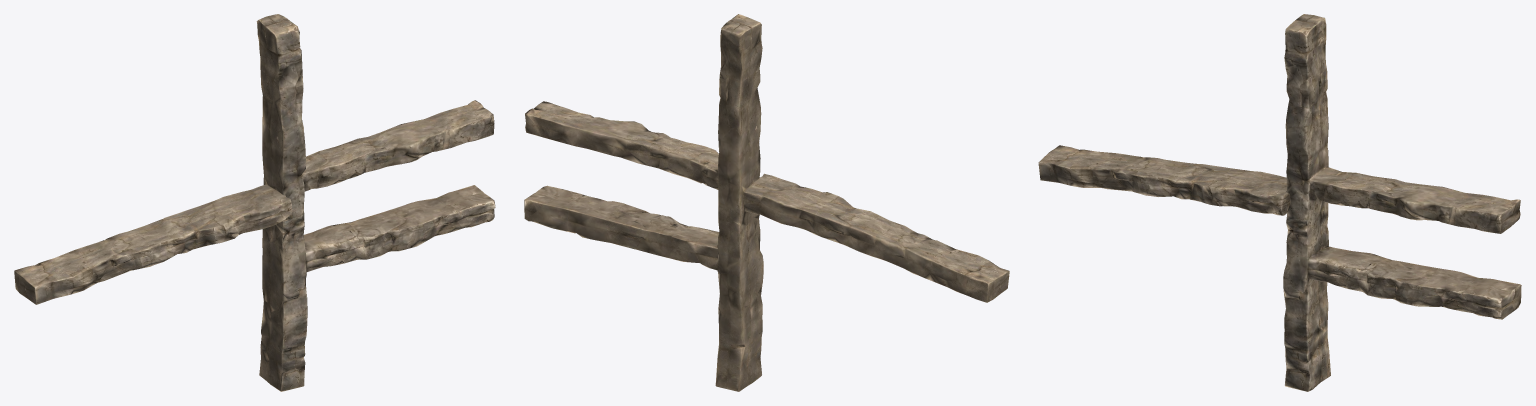
File: terrain-teleport.glb
The picture shows the model from 3 angles, left to right: view 1: azimuth 30°, elevation 25°; view 2: azimuth 150°, elevation 25°; view 3: azimuth 330°, elevation 25°; orthographic projection.
Size of the model in its own units: 1.9 by 1.41 by 0.2335.
1 material, 1 textured.
